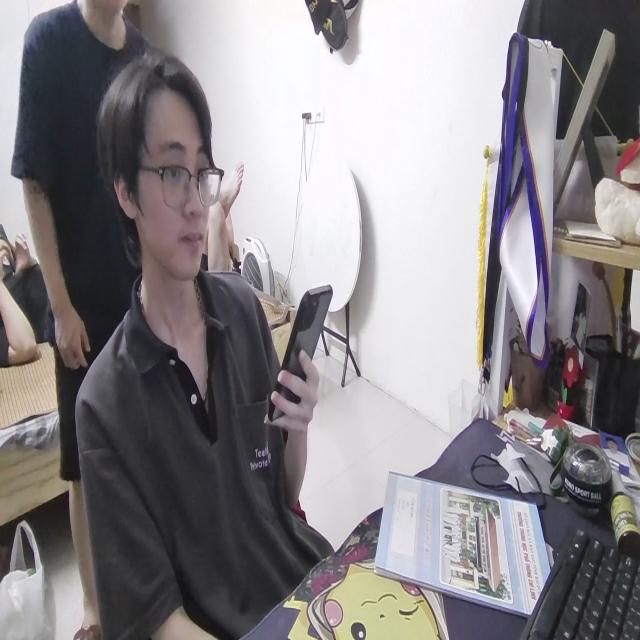book: (376, 456, 549, 630)
extra_person: (13, 6, 177, 584)
phone: (261, 281, 335, 433)
student: (74, 44, 336, 640)
